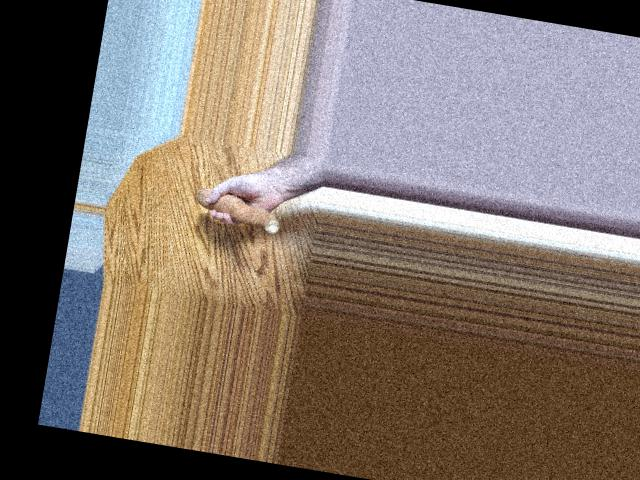sweet_potato: (200, 183, 291, 232)
